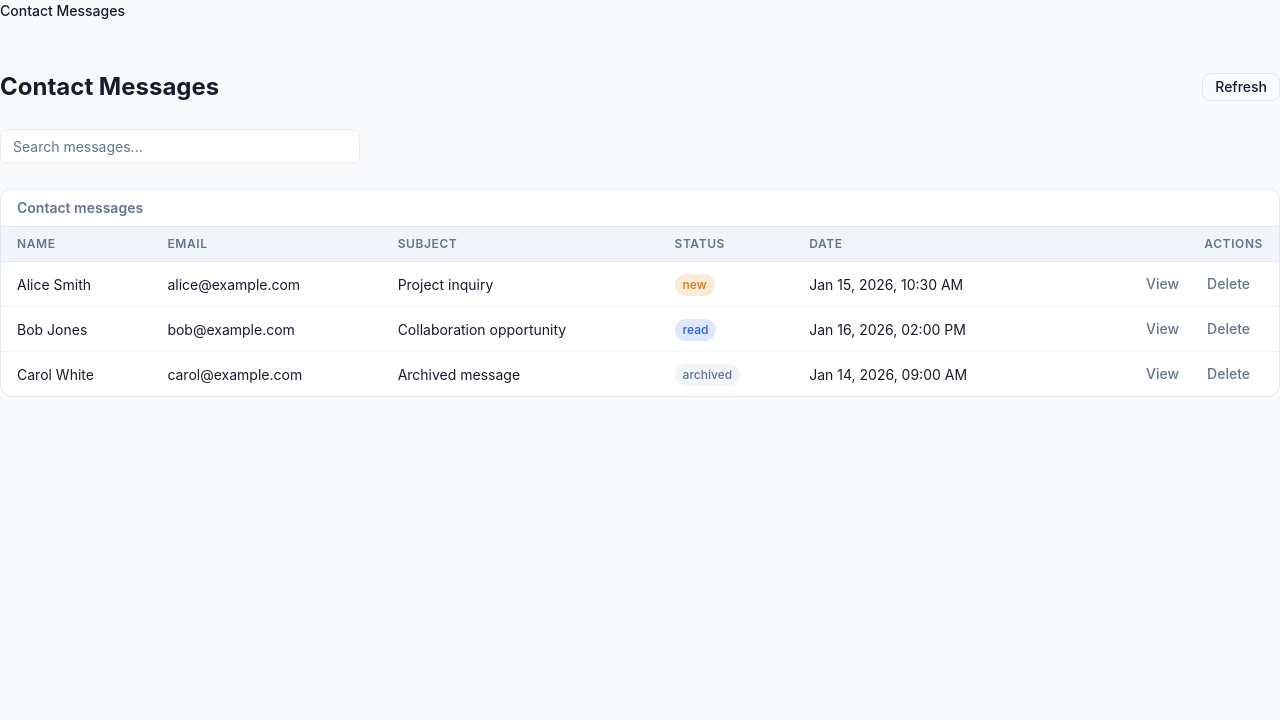
Test case: ContactMessagesPage › opens the view modal with message details when View is clicked
Click the button with aria-label "view message from alice smith".
click(1163, 284)  # box [1133,270,1192,298]
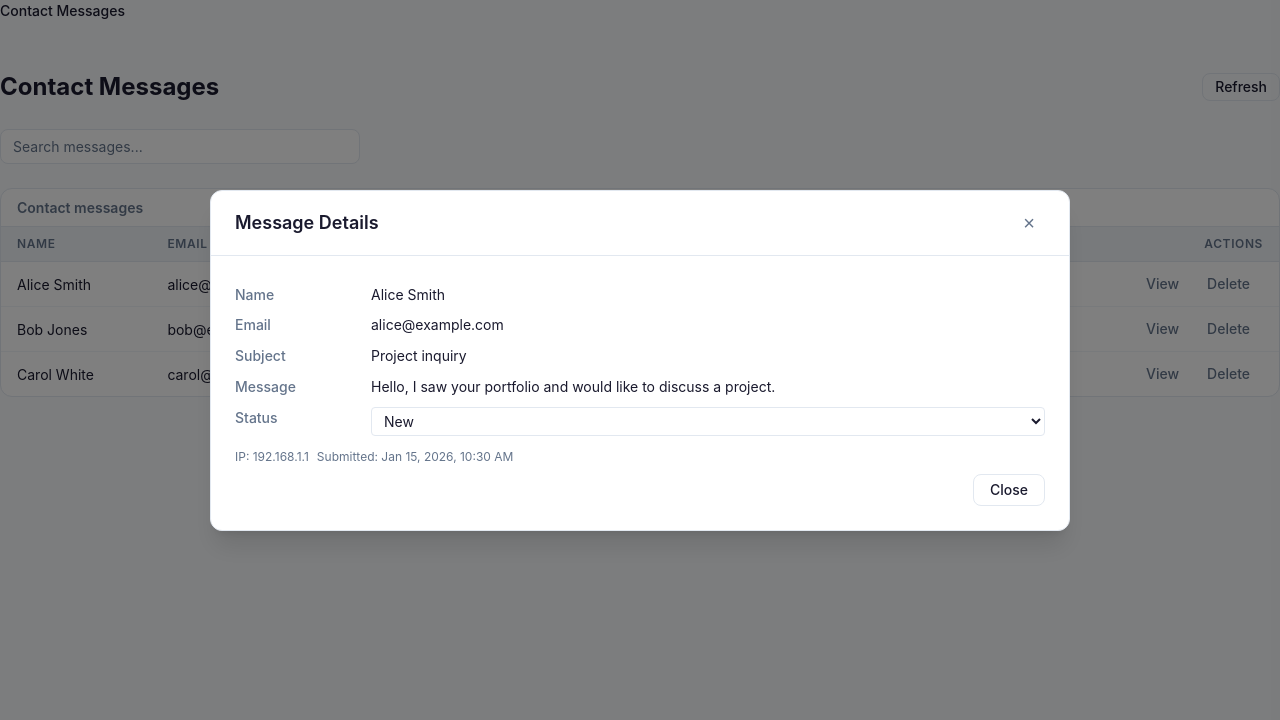
Expected: the dialog "Message Details" is shown, [210,190,1070,530]
Expected: the text "Alice Smith" is shown, [371,286,445,302]
Expected: the link "alice@example.com" is shown, [371,316,504,333]
